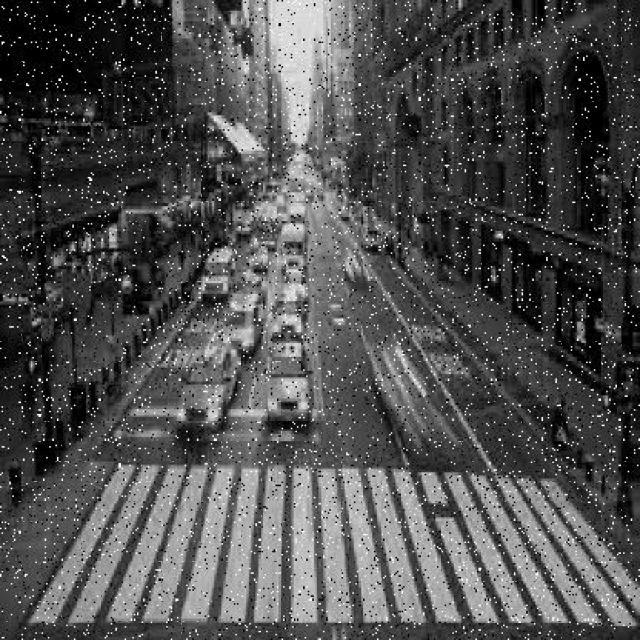crosswalk: (13, 462, 639, 630)
